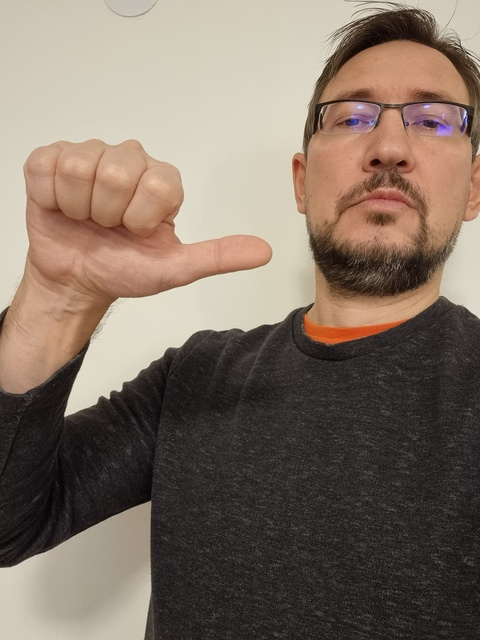GestBack: (24, 139, 270, 295)
